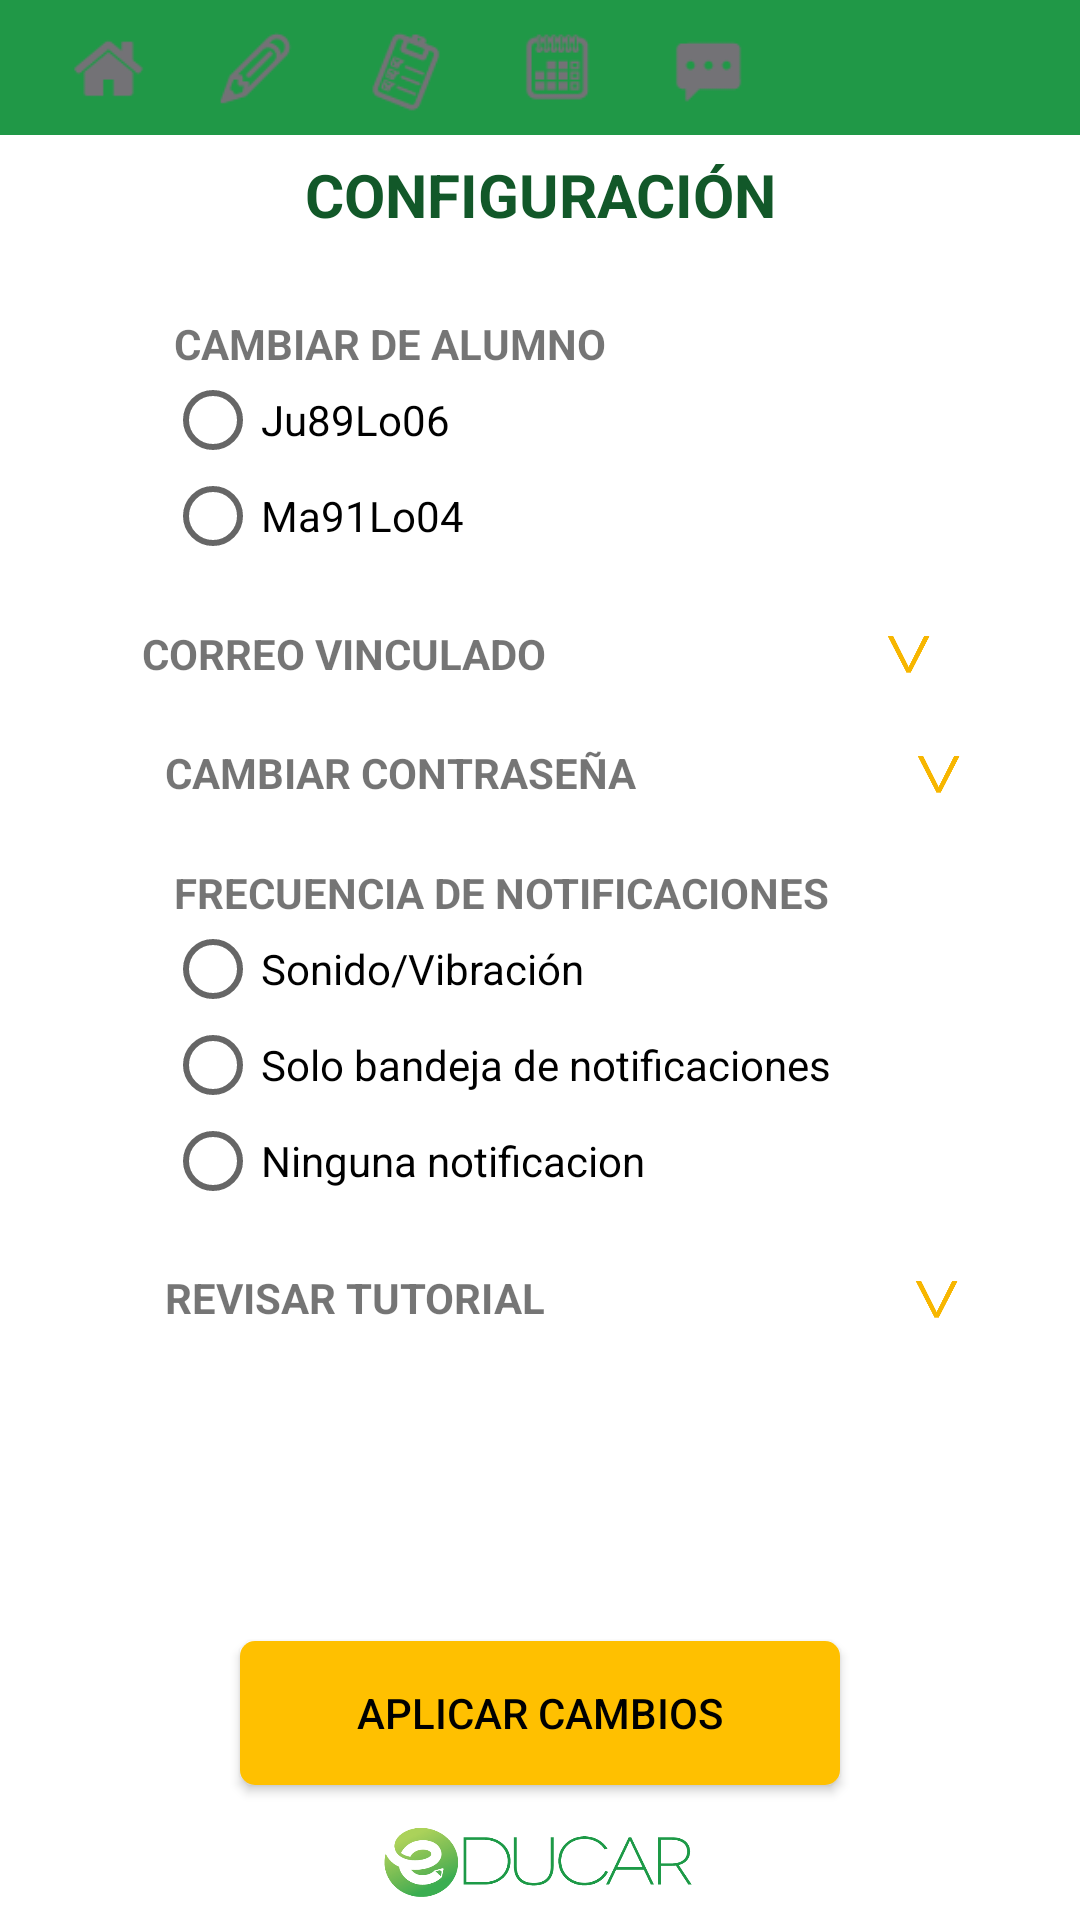

Where to tap for icons on this 1080 × 1920 app screen, as [x,y]:
arrowdown: [909,654], [939,774], [937,1299]
